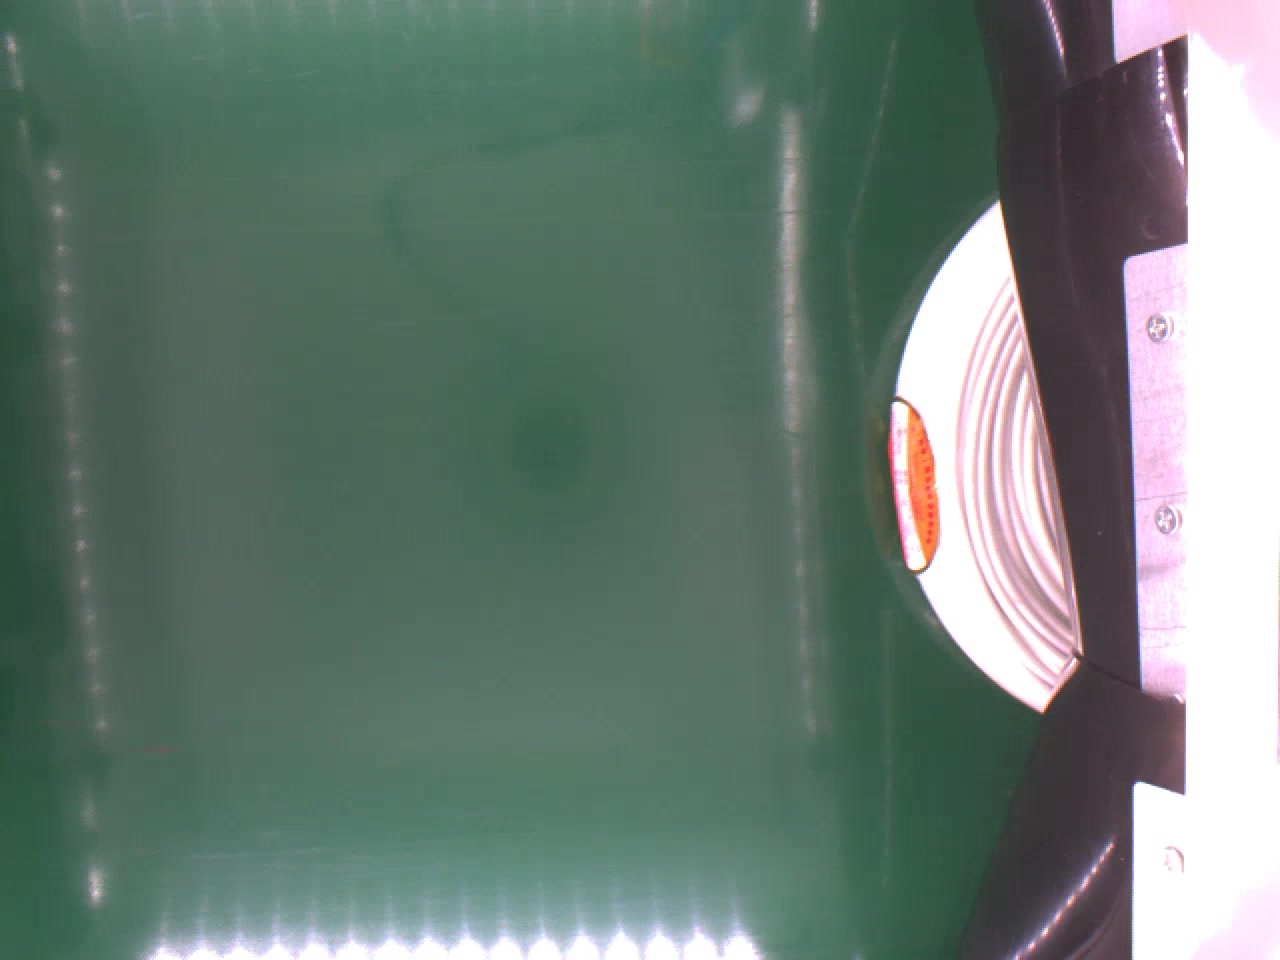white: (895, 188, 1079, 709)
